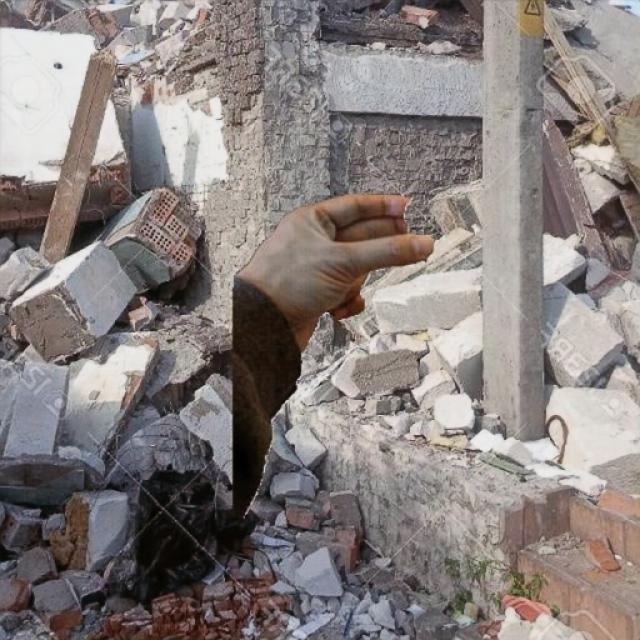Person in Rubble: (232, 193, 432, 518)
